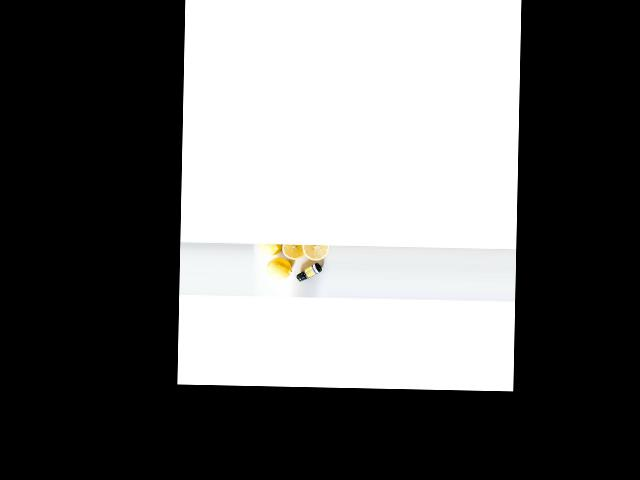lemon: (266, 259, 291, 277)
